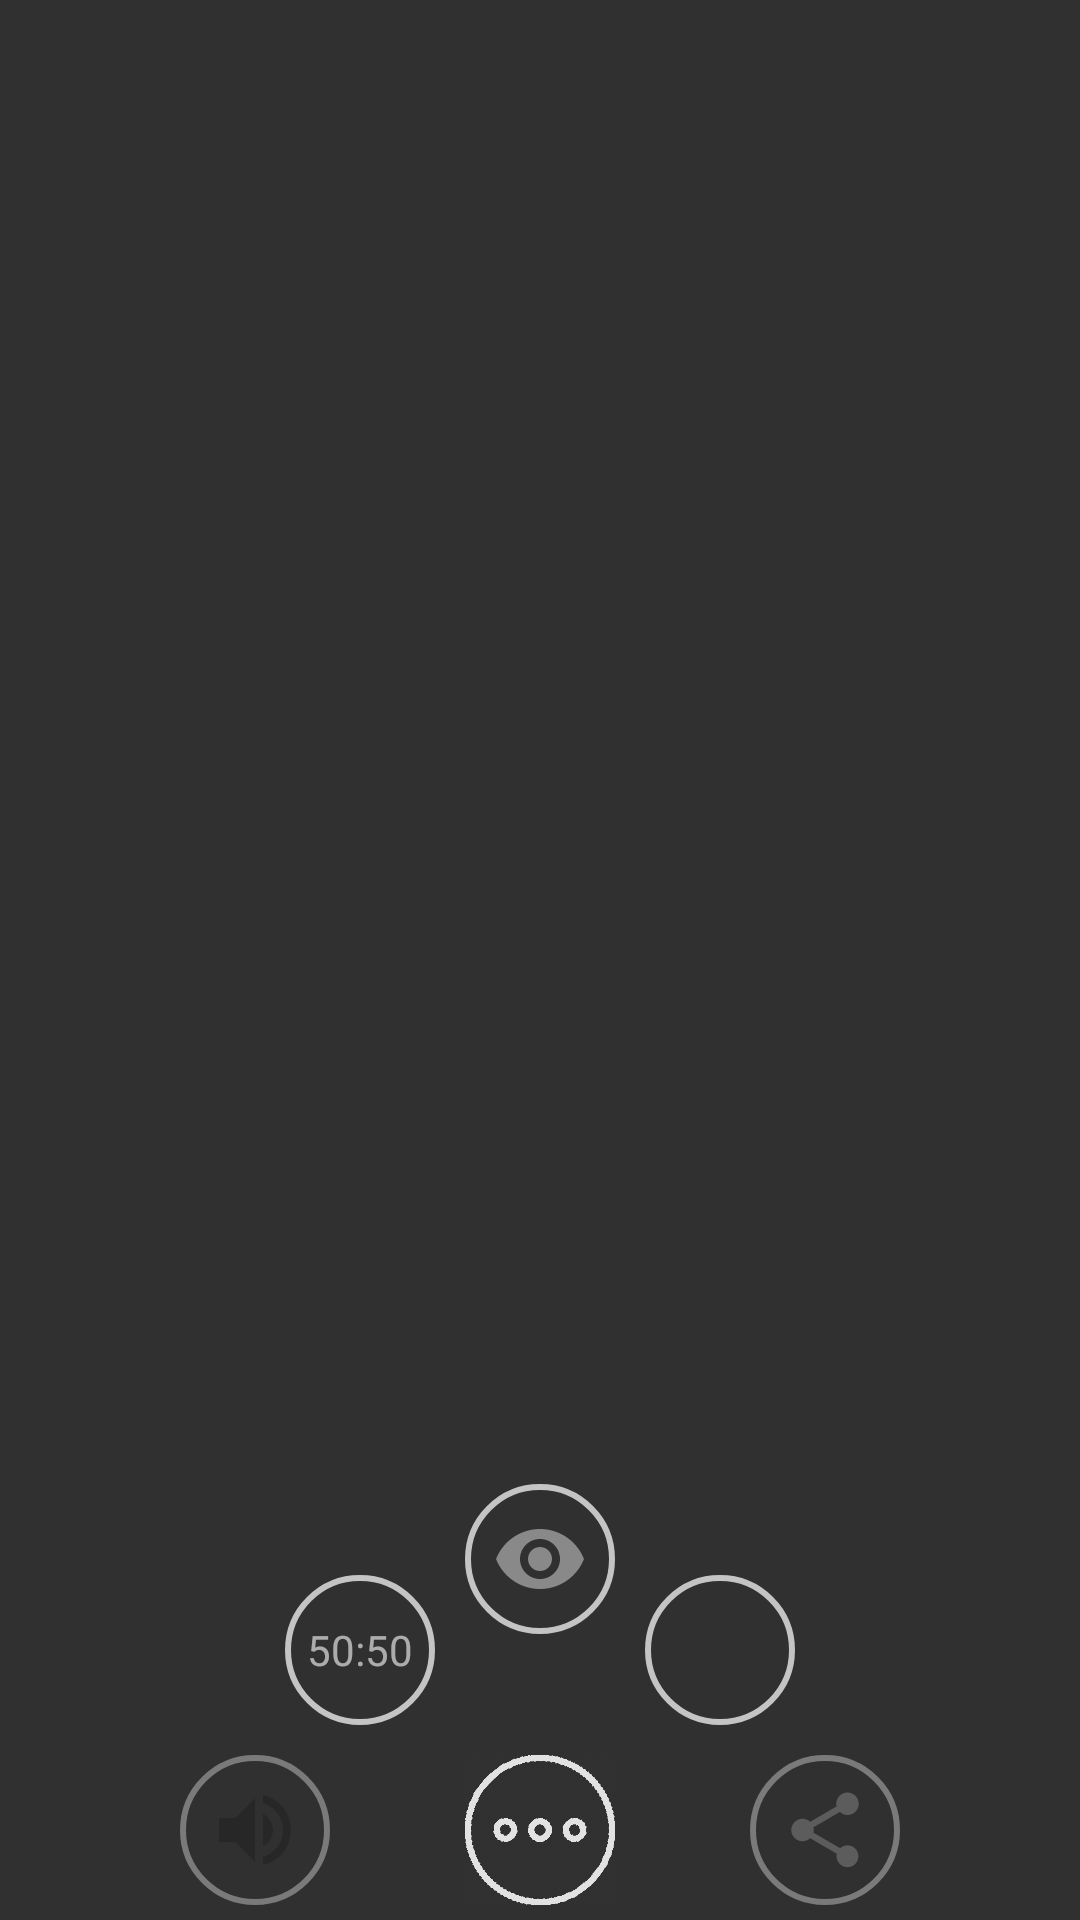

Point at icon controls on the screen. Image size 1080*1920, points as (x,y).
optionss: (540,1830)
share: (825,1830)
volume up: (255,1830)
